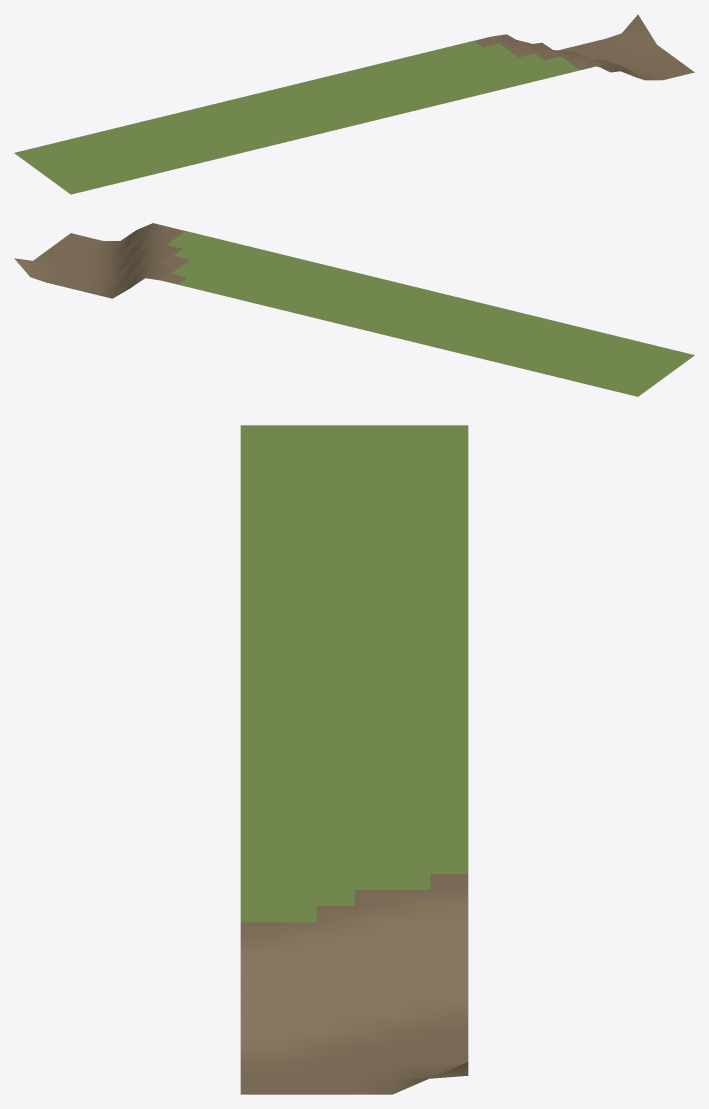
Rendered from region_1_4.glb.
3 renders of one model, top to bottom at view 1: azimuth 30°, elevation 25°; view 2: azimuth 150°, elevation 25°; view 3: azimuth 270°, elevation 25°, orthographic. The views are drawn at different scales.
Parts seen in each view (by area): view 1: OD_Meadow.020, OD_Ground.020; view 2: OD_Meadow.020, OD_Ground.020; view 3: OD_Meadow.020, OD_Ground.020.
Part boxes in pixels (left/top/right/bottom): OD_Meadow.020: left=14, top=40, right=579, bottom=194; OD_Ground.020: left=21, top=14, right=694, bottom=194; OD_Meadow.020: left=167, top=231, right=694, bottom=396; OD_Ground.020: left=14, top=223, right=690, bottom=394; OD_Meadow.020: left=240, top=425, right=468, bottom=922; OD_Ground.020: left=240, top=874, right=468, bottom=1094.
Size of the model in its own units: 31.52 by 1.46 by 4.98.
